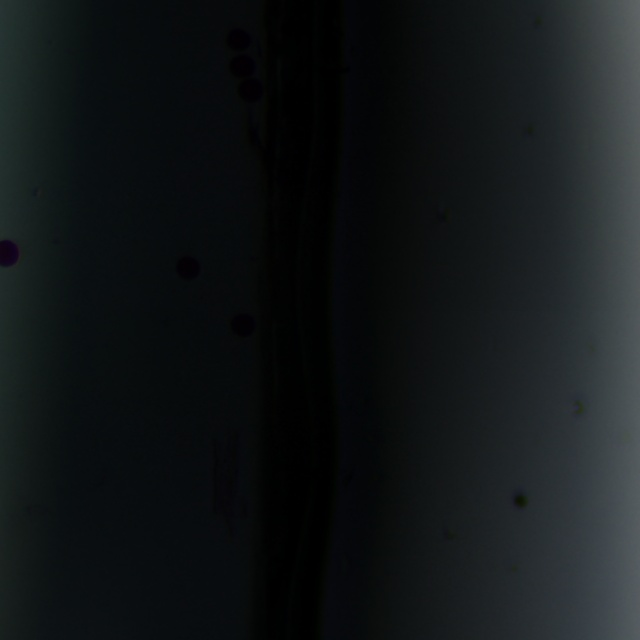viable: (177, 257, 199, 279), (232, 315, 255, 336), (239, 80, 262, 101), (231, 56, 254, 76), (1, 241, 19, 266), (228, 29, 250, 49)
